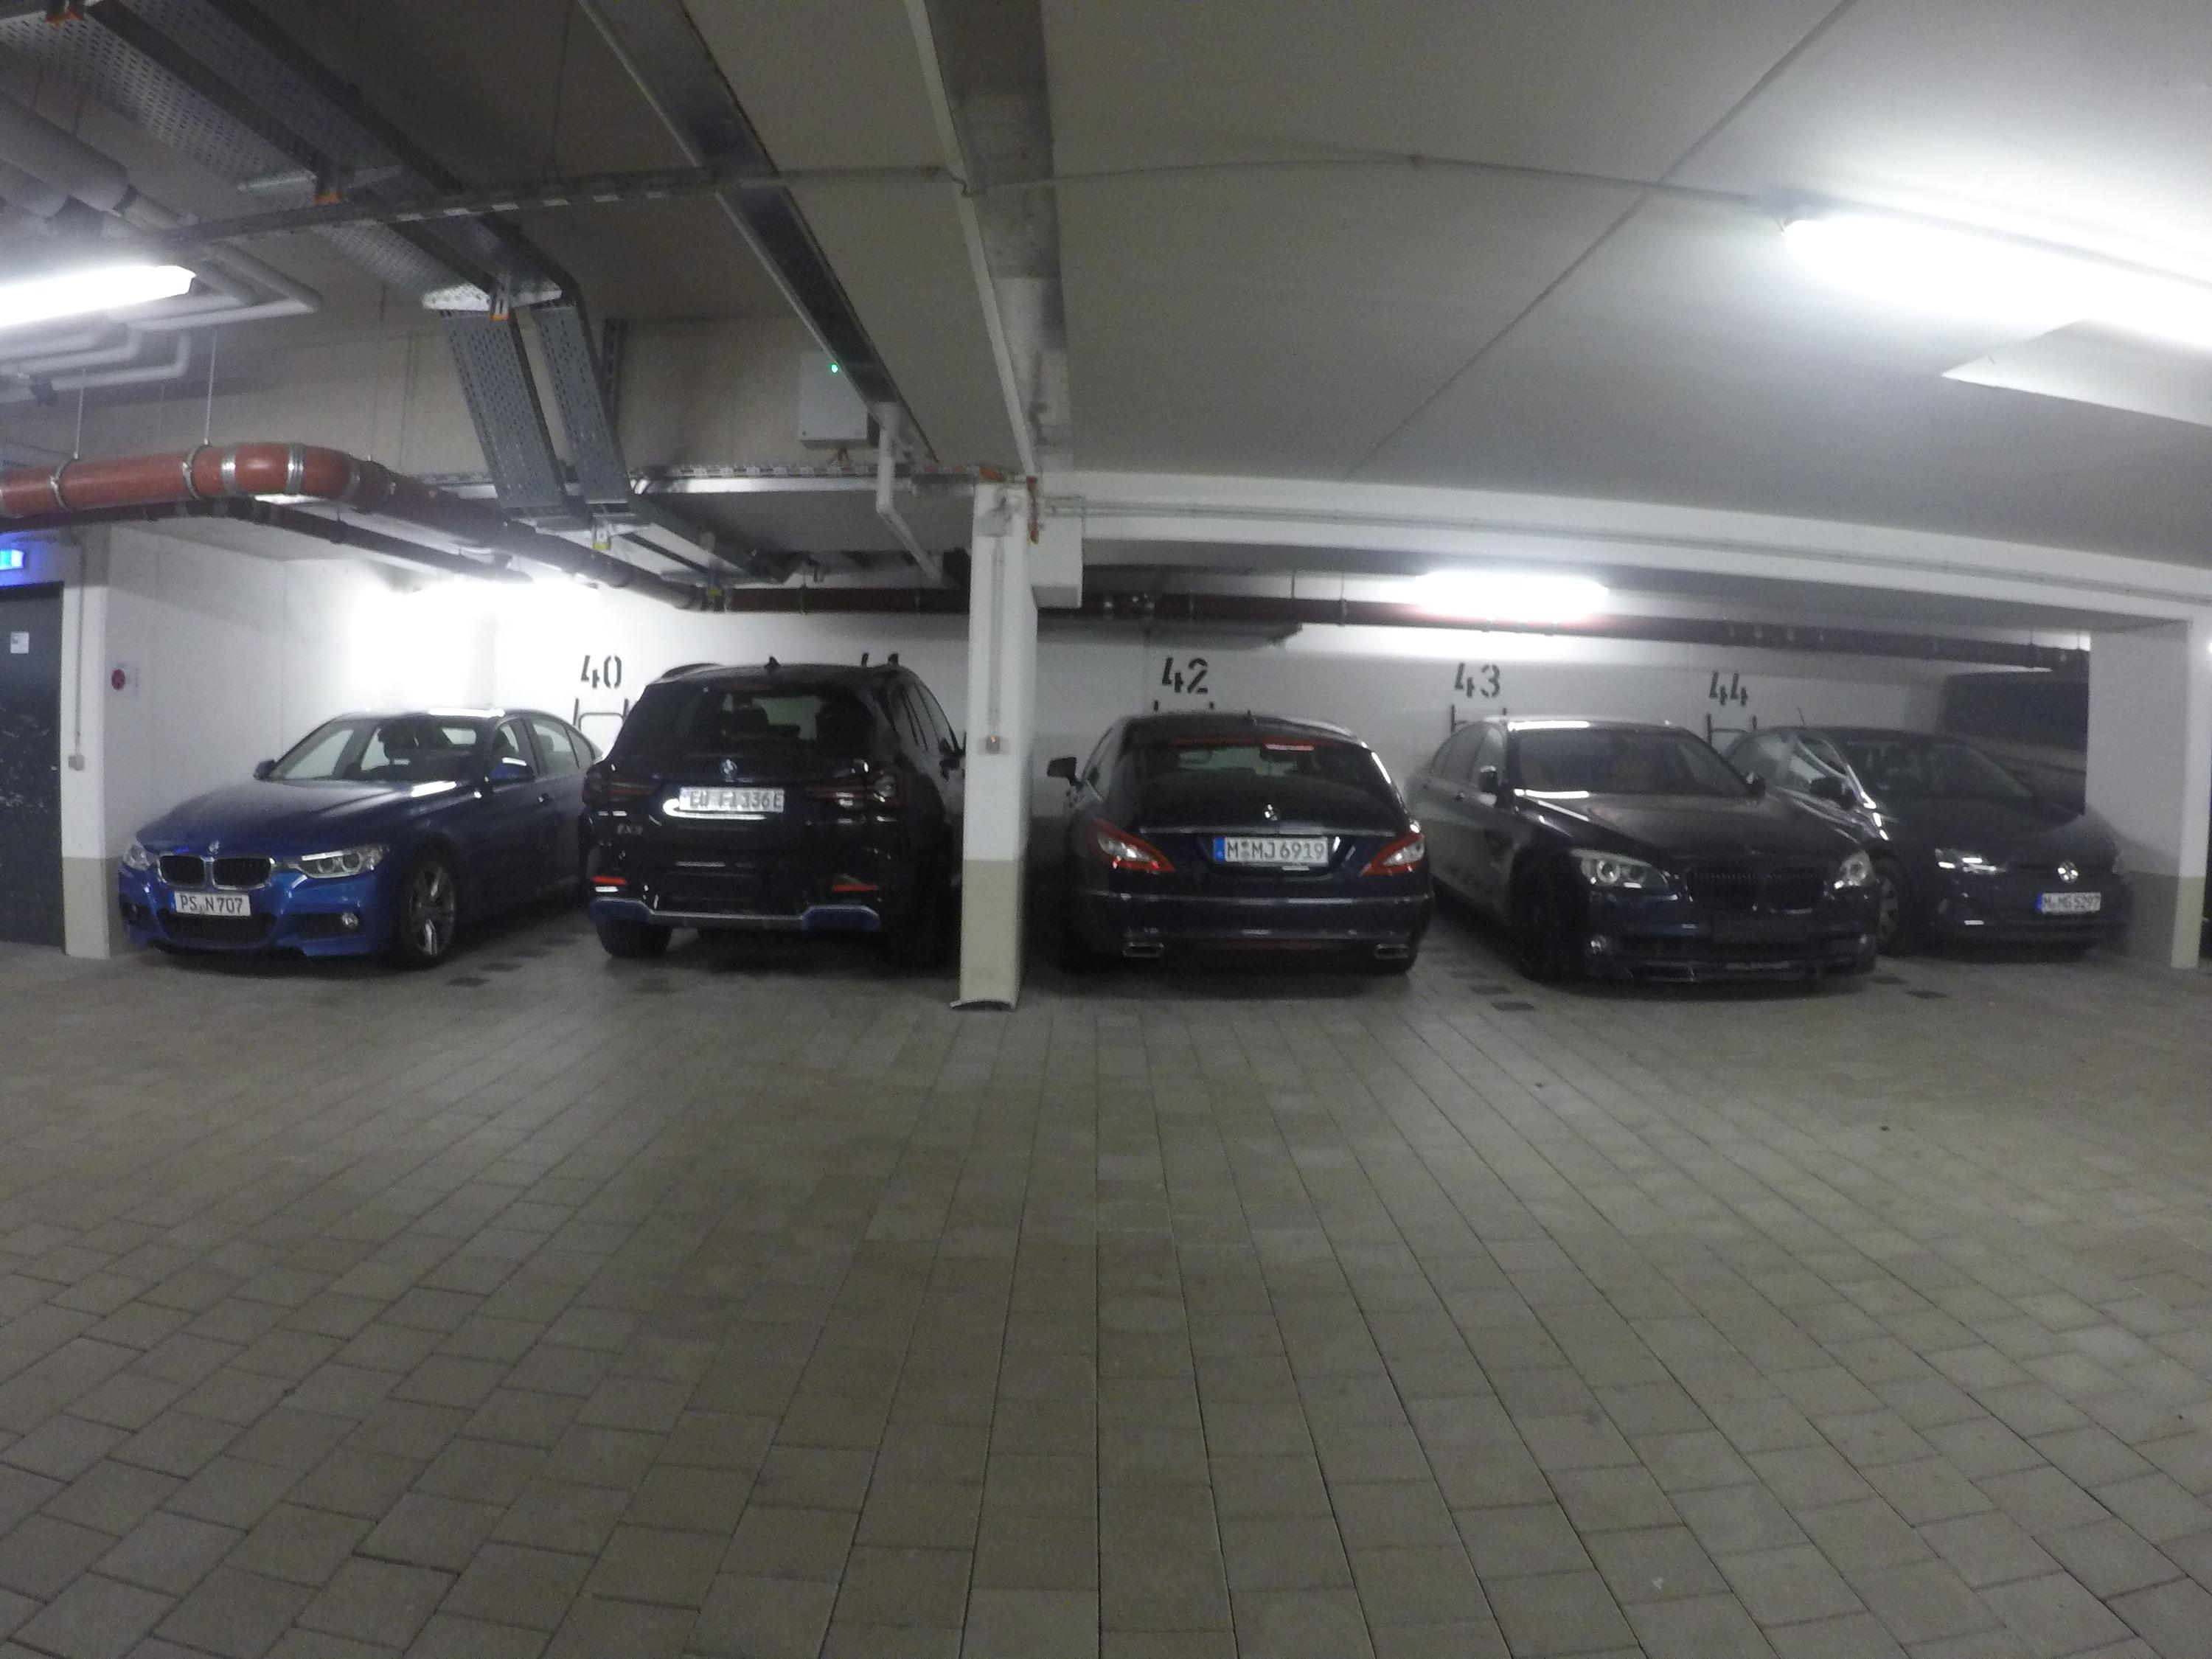0: (225, 897, 235, 913)
1: (740, 789, 751, 808), (1302, 841, 1313, 860)
2: (2081, 894, 2087, 908)
3: (751, 790, 761, 810)
5: (2073, 895, 2081, 908)
6: (1279, 840, 1290, 859), (761, 790, 770, 808)
7: (234, 897, 243, 914), (216, 896, 225, 913), (2093, 894, 2100, 908)
9: (1313, 841, 1326, 860), (1290, 841, 1302, 860), (2087, 894, 2093, 908)
E: (772, 790, 784, 810), (690, 789, 700, 808)
F: (719, 789, 729, 808)
G: (2065, 894, 2072, 908)
I: (728, 790, 739, 809)
J: (1262, 841, 1276, 859)
M: (1250, 841, 1265, 860), (1226, 840, 1239, 860), (2057, 894, 2066, 908), (2043, 895, 2052, 909)
N: (204, 895, 215, 912)
P: (179, 894, 189, 910)
S: (189, 895, 197, 911)
U: (700, 790, 710, 809)
